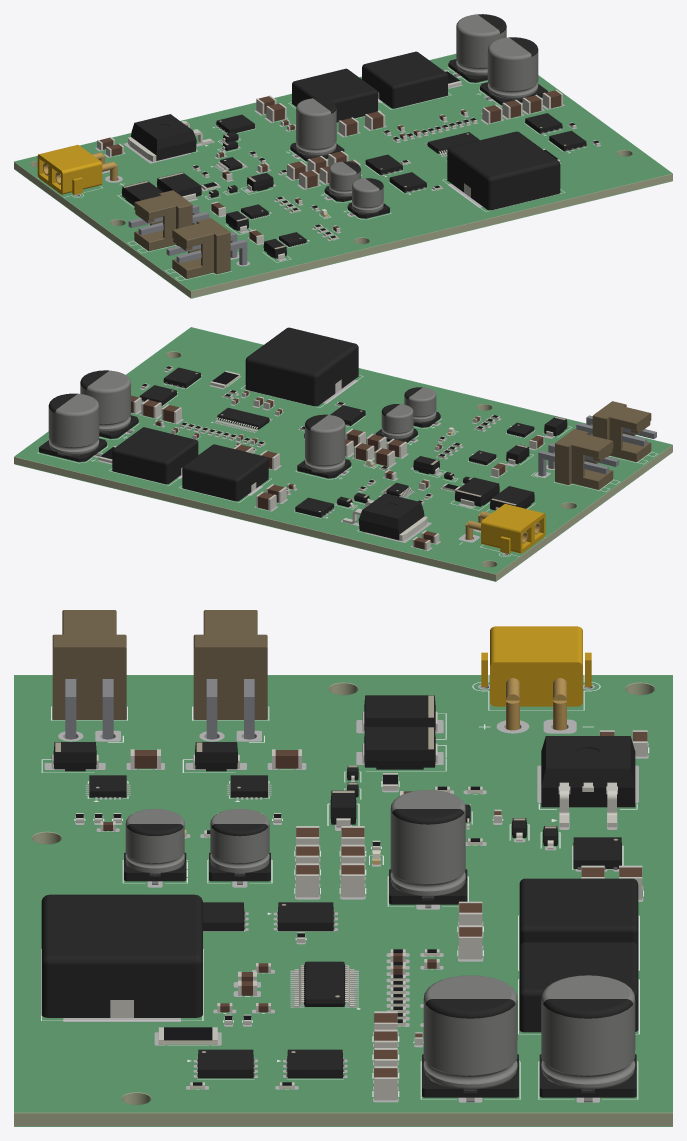
The model's file is psu_board.glb.
The picture shows the model from 3 angles, top to bottom: view 1: azimuth 30°, elevation 25°; view 2: azimuth 150°, elevation 25°; view 3: azimuth 270°, elevation 25°; orthographic projection. The views are drawn at different scales.
Visible parts, largest first — view 1: =>[0:1:1:63], =>[0:1:1:58], =>[0:1:1:41] (×2), =>[0:1:1:43] (×2), =>[0:1:1:65], pa66_housing (×2), =>[0:1:1:19] (×5), =>[0:1:1:49], =>[0:1:1:60], housing, =>[0:1:1:47] (×2), =>[0:1:1:61] (+5 smaller); view 2: =>[0:1:1:63], =>[0:1:1:41] (×2), =>[0:1:1:58], =>[0:1:1:43] (×2), =>[0:1:1:65], pa66_housing (×2), =>[0:1:1:60], =>[0:1:1:49], housing, =>[0:1:1:47] (×2), =>[0:1:1:61], =>[0:1:1:19] (×4) (+7 smaller); view 3: =>[0:1:1:63], =>[0:1:1:43] (×2), =>[0:1:1:58], pa66_housing (×2), =>[0:1:1:41] (×2), =>[0:1:1:65], =>[0:1:1:47] (×2), =>[0:1:1:60], =>[0:1:1:19] (×5), housing, =>[0:1:1:49], =>[0:1:1:61] (+9 smaller).
Boxes of the visible parts, box(x1,y1,x2,y2) form: =>[0:1:1:63]: box(14, 53, 672, 290); =>[0:1:1:58]: box(447, 131, 560, 210); =>[0:1:1:41] (×2): box(292, 51, 447, 122); =>[0:1:1:43] (×2): box(448, 14, 547, 105); =>[0:1:1:65]: box(14, 96, 672, 298); pa66_housing (×2): box(134, 190, 230, 278); =>[0:1:1:19] (×5): box(216, 113, 586, 192); =>[0:1:1:49]: box(128, 114, 212, 161); =>[0:1:1:60]: box(290, 98, 344, 161); housing: box(37, 145, 102, 194); =>[0:1:1:47] (×2): box(324, 161, 389, 218); =>[0:1:1:61]: box(74, 72, 601, 266); =>[0:1:1:63]: box(14, 327, 672, 573); =>[0:1:1:41] (×2): box(112, 427, 268, 501); =>[0:1:1:58]: box(245, 327, 358, 406); =>[0:1:1:43] (×2): box(39, 370, 138, 461); =>[0:1:1:65]: box(14, 351, 672, 581); pa66_housing (×2): box(555, 401, 651, 489); =>[0:1:1:60]: box(297, 414, 351, 478); =>[0:1:1:49]: box(343, 493, 427, 541); housing: box(481, 503, 545, 553); =>[0:1:1:47] (×2): box(375, 387, 440, 442); =>[0:1:1:61]: box(93, 368, 554, 555); =>[0:1:1:19] (×4): box(139, 367, 365, 517); =>[0:1:1:63]: box(14, 675, 672, 1112); =>[0:1:1:43] (×2): box(422, 975, 636, 1102); =>[0:1:1:58]: box(41, 894, 202, 1017); pa66_housing (×2): box(52, 610, 267, 719); =>[0:1:1:41] (×2): box(519, 878, 638, 1032); =>[0:1:1:65]: box(14, 682, 672, 1126); =>[0:1:1:47] (×2): box(124, 809, 270, 884); =>[0:1:1:60]: box(389, 790, 467, 908); =>[0:1:1:19] (×5): box(197, 837, 621, 1078); housing: box(481, 626, 591, 706); =>[0:1:1:49]: box(541, 736, 635, 827); =>[0:1:1:61]: box(44, 684, 648, 1102).
Size of the model in its own units: 0.1101 by 0.0134 by 0.07.
